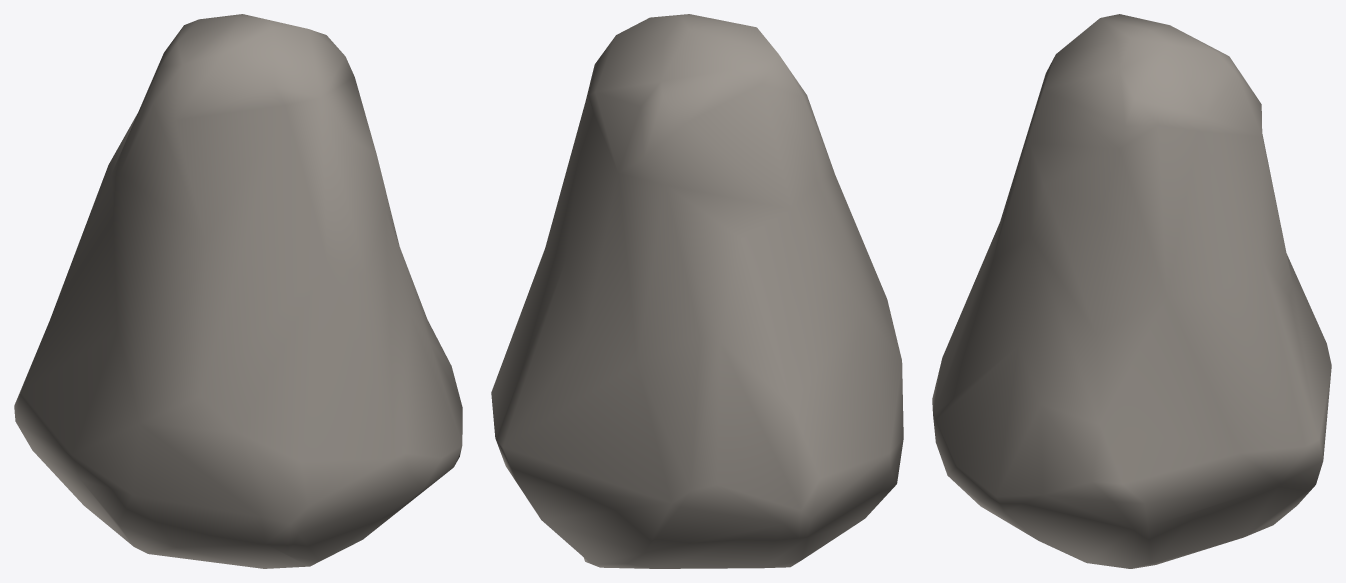
The model's file is Environment_Rock_2.low.gltf.
3 views of the same model, side by side, from view 1: azimuth 30°, elevation 25°; view 2: azimuth 150°, elevation 25°; view 3: azimuth 270°, elevation 25° (orthographic). The views are drawn at different scales.
Visible parts, largest first — view 1: Environment_Rock_2; view 2: Environment_Rock_2; view 3: Environment_Rock_2.
Part boxes in pixels (x1,y1,x2,y2): Environment_Rock_2: [14, 14, 462, 568]; Environment_Rock_2: [491, 14, 903, 568]; Environment_Rock_2: [932, 14, 1331, 568].
Size of the model in its own units: 0.7793 by 1.04 by 0.7505.
Materials: 1 (1 with a texture image).
